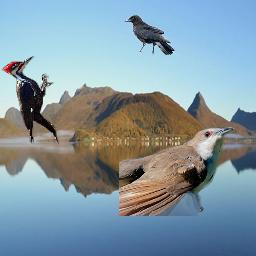Crow: (124, 15, 175, 55)
Cuckoo: (119, 127, 234, 216)
Woodpecker: (2, 56, 59, 144)
